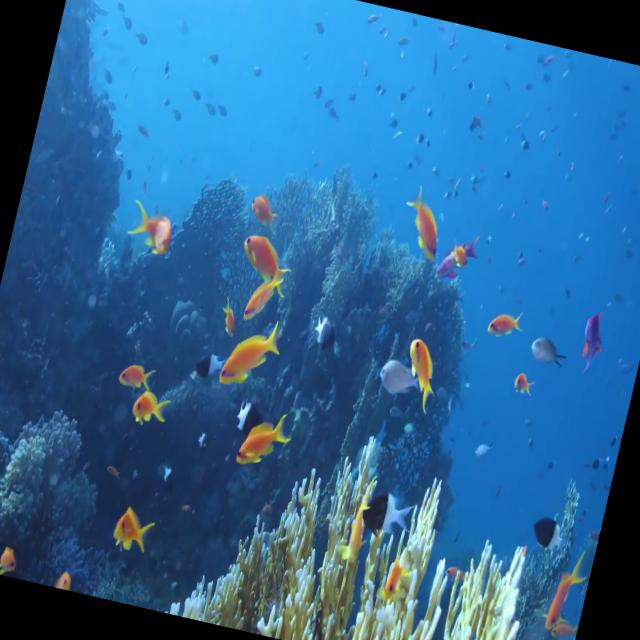fish: (206, 309, 296, 410), (222, 401, 296, 484), (108, 194, 183, 270), (350, 478, 424, 554), (100, 491, 170, 571), (390, 333, 452, 422), (391, 178, 456, 262), (226, 216, 296, 288), (234, 252, 292, 338), (538, 546, 586, 634), (470, 292, 529, 358), (567, 301, 614, 382), (125, 374, 180, 440), (305, 300, 354, 366), (523, 497, 577, 556), (368, 348, 420, 404), (498, 356, 546, 416), (237, 182, 284, 238), (525, 326, 581, 372), (222, 387, 268, 441), (212, 283, 244, 346), (115, 352, 153, 400), (443, 234, 481, 270), (0, 536, 23, 577)
